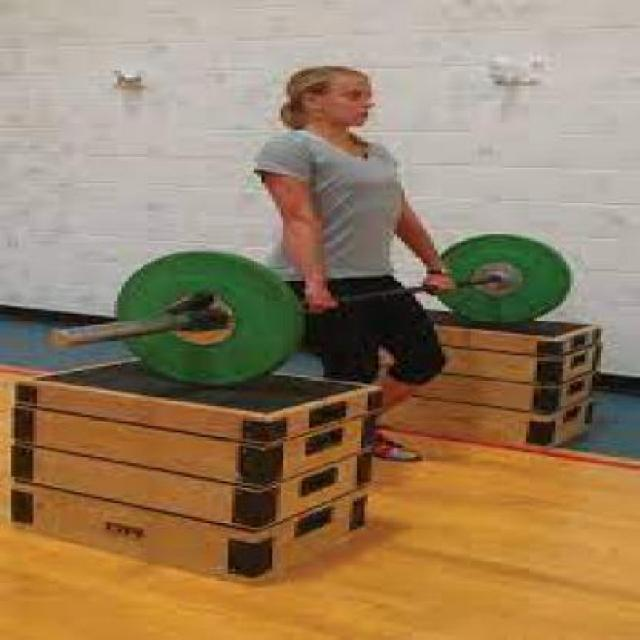Barbell: (42, 327, 82, 353)
